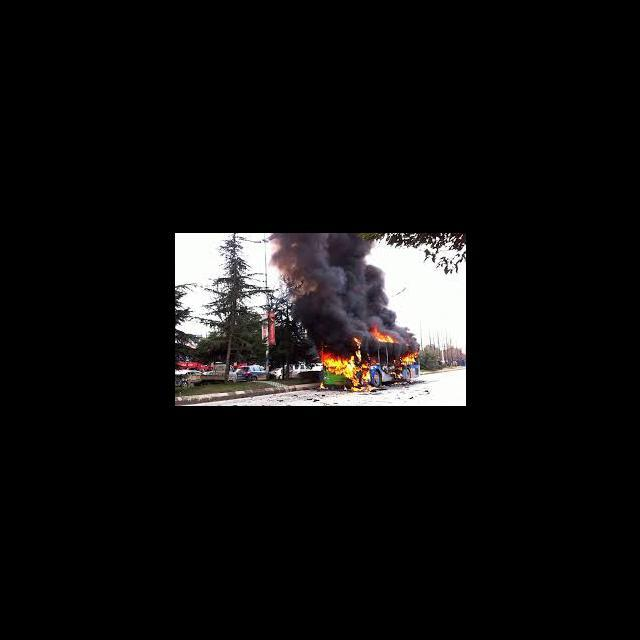Fire: (322, 354, 372, 392), (368, 326, 394, 344), (400, 349, 419, 364)
Smoke: (272, 236, 372, 296), (294, 298, 382, 324), (307, 324, 364, 337)
